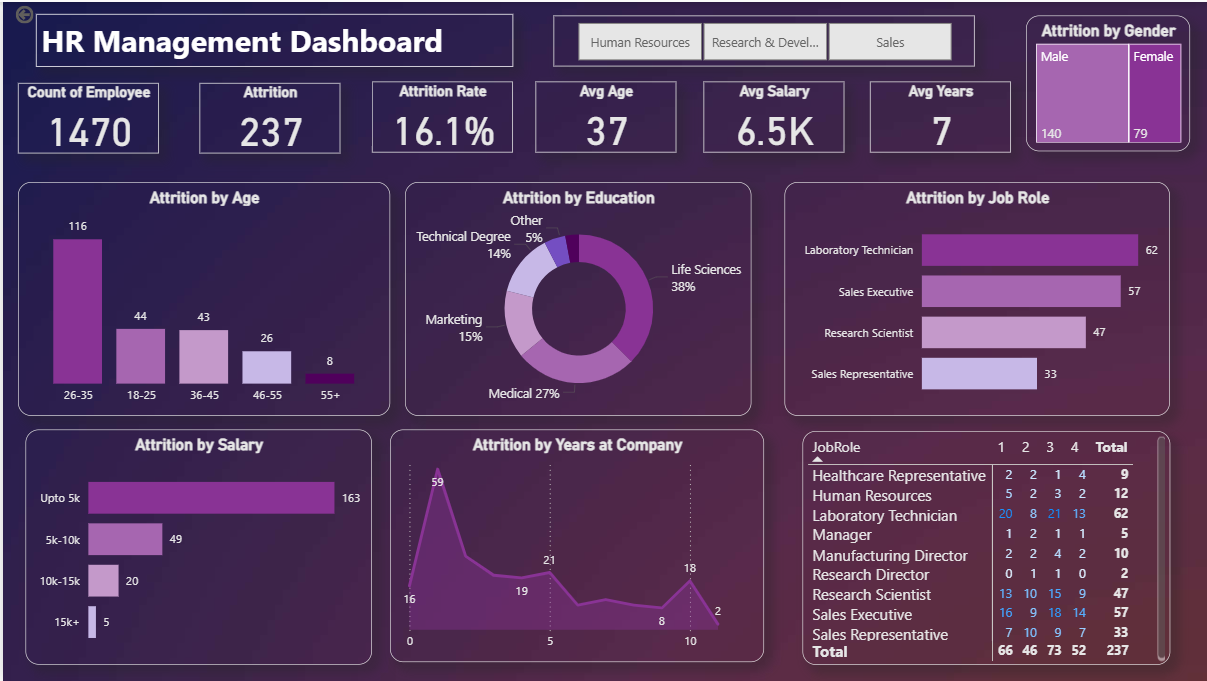

The page's visual inventory and layout, read from the dashboard file:
{"tool":"powerbi","page":{"name":"Page 1","canvas":[1280,720],"ordinal":0},"visuals":[{"type":"card","title":"Count of Employee","fields":{"Values":["CountNonNull(HR_Analytics.EmpID)"]},"box":[15.9,85.9,149.5,74.8],"z":0},{"type":"card","title":"Attrition","fields":{"Values":["Sum(HR_Analytics.AttritionCount)"]},"box":[208.4,85.9,149.5,74.8],"z":1000},{"type":"card","title":"Attrition Rate","fields":{"Values":["HR_Analytics.AttritionRate"]},"box":[391.4,84,149.5,75.6],"z":2000},{"type":"card","title":"Avg Age","fields":{"Values":["Avg(HR_Analytics.Age)"]},"box":[564.4,84,149.5,75.6],"z":3000},{"type":"actionButton","box":[10.1,0,100.8,26.9],"z":4000},{"type":"card","title":"Avg Salary","fields":{"Values":["Avg(HR_Analytics.MonthlyIncome)"]},"box":[742.5,84,149.5,75.6],"z":5000},{"type":"card","title":"Avg Years","fields":{"Values":["Avg(HR_Analytics.YearsAtCompany)"]},"box":[918.8,84,149.5,75.6],"z":6000},{"type":"donutChart","title":"Attrition by Education","fields":{"Y":["Sum(HR_Analytics.AttritionCount)"],"Category":["HR_Analytics.EducationField","HR_Analytics.YearsAtCompany"]},"box":[426.3,190.9,367.4,248.1],"z":7000},{"type":"columnChart","title":"Attrition by Age","fields":{"Category":["HR_Analytics.AgeGroup"],"Y":["Sum(HR_Analytics.AttritionCount)"]},"box":[15.9,190.9,394.5,248.1],"z":8000},{"type":"pivotTable","fields":{"Rows":["HR_Analytics.JobRole"],"Columns":["HR_Analytics.JobSatisfaction"],"Values":["Sum(HR_Analytics.AttritionCount)"]},"box":[847.8,454.9,389.7,248.1],"z":9000},{"type":"barChart","title":"Attrition by Salary","fields":{"Category":["HR_Analytics.SalarySlab"],"Y":["Sum(HR_Analytics.AttritionCount)"]},"box":[24.1,453.5,367.1,249.4],"z":10000},{"type":"barChart","title":"Attrition by Job Role","fields":{"Category":["HR_Analytics.JobRole"],"Y":["Sum(HR_Analytics.AttritionCount)"]},"box":[828.7,190.9,408.8,248.1],"z":11000},{"type":"areaChart","title":"Attrition by Years at Company","fields":{"Category":["HR_Analytics.YearsAtCompany"],"Y":["Sum(HR_Analytics.AttritionCount)"]},"box":[411,453.5,396.9,246.6],"z":12000},{"type":"treemap","title":"Attrition by Gender","fields":{"Group":["HR_Analytics.Gender"],"Values":["Sum(HR_Analytics.AttritionCount)"]},"box":[1085,14.1,174,144.3],"z":13000},{"type":"slicer","fields":{"Values":["HR_Analytics.Department"]},"box":[584.2,14.1,447,53.8],"z":14000},{"type":"textbox","box":[35,12.7,505.8,55.7],"z":15000}]}

Visuals, with their boxes in screenshot pixels (x1, y1, x2, y2), scaled from the page's 1280x720 canvas onto the 1207x681 screenshot:
"Count of Employee" card: crop(15, 81, 156, 152)
"Attrition" card: crop(197, 81, 337, 152)
"Attrition Rate" card: crop(369, 79, 510, 151)
"Avg Age" card: crop(532, 79, 673, 151)
actionButton: crop(10, 0, 105, 25)
"Avg Salary" card: crop(700, 79, 841, 151)
"Avg Years" card: crop(866, 79, 1007, 151)
"Attrition by Education" donutChart: crop(402, 181, 748, 415)
"Attrition by Age" columnChart: crop(15, 181, 387, 415)
pivotTable - HR_Analytics.JobRole x HR_Analytics.JobSatisfaction: crop(799, 430, 1167, 665)
"Attrition by Salary" barChart: crop(23, 429, 369, 665)
"Attrition by Job Role" barChart: crop(781, 181, 1167, 415)
"Attrition by Years at Company" areaChart: crop(388, 429, 762, 662)
"Attrition by Gender" treemap: crop(1023, 13, 1187, 150)
slicer - HR_Analytics.Department: crop(551, 13, 972, 64)
textbox: crop(33, 12, 510, 65)
